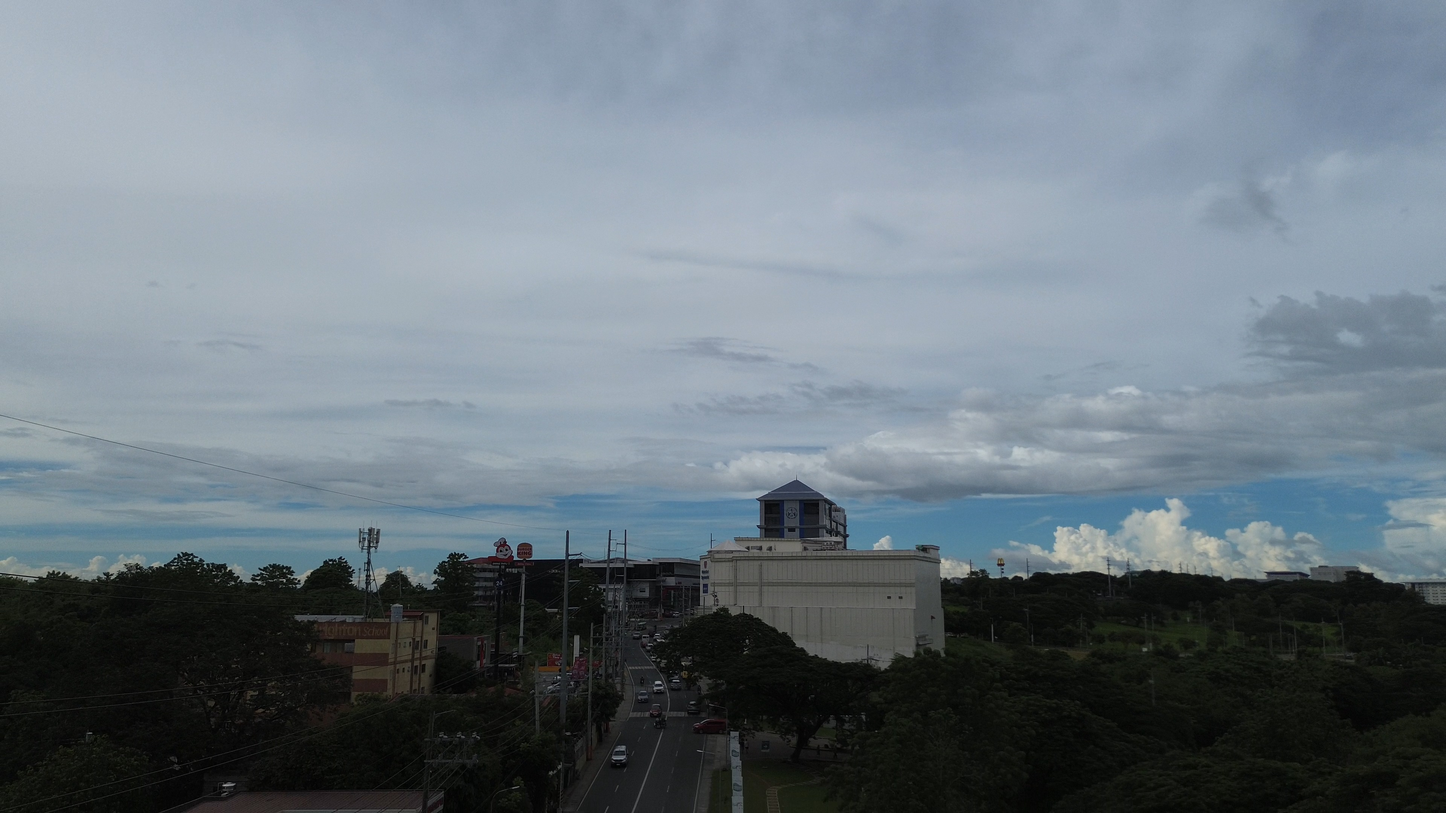car: (635, 690, 649, 703)
vehicle: (692, 719, 727, 733), (609, 745, 628, 767), (686, 700, 701, 716), (648, 703, 663, 717), (653, 715, 667, 729), (652, 680, 666, 693), (669, 678, 682, 690), (631, 632, 642, 639)
